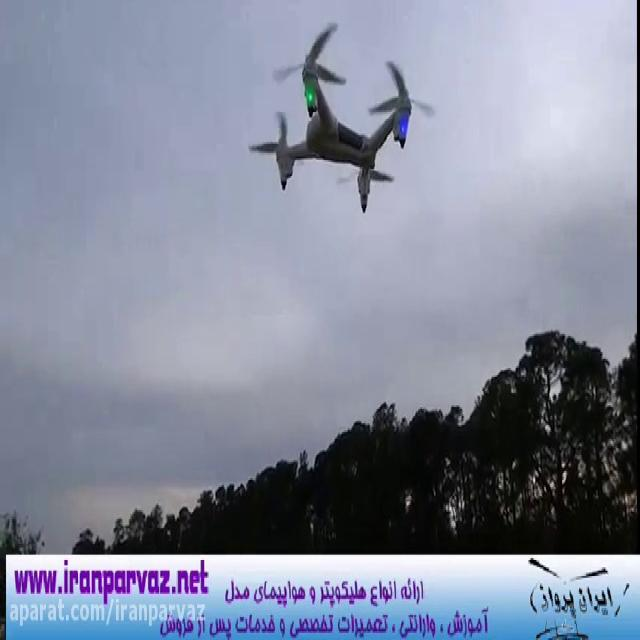drone: (244, 16, 436, 215)
